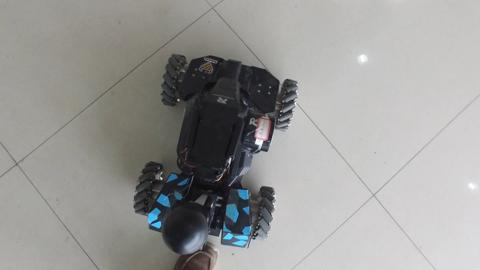chariot: (137, 28, 284, 247)
